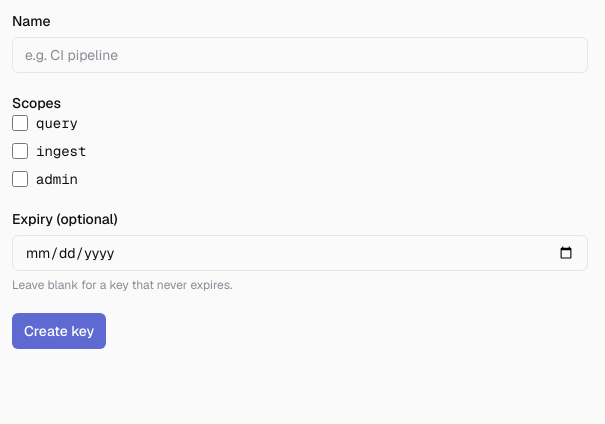
Scenario: CreateKeyDialog › blocks submit when no scope is selected
In the field labelled "Name": (300, 55) top-left (12, 37), bottom-right (588, 73), type "CI"
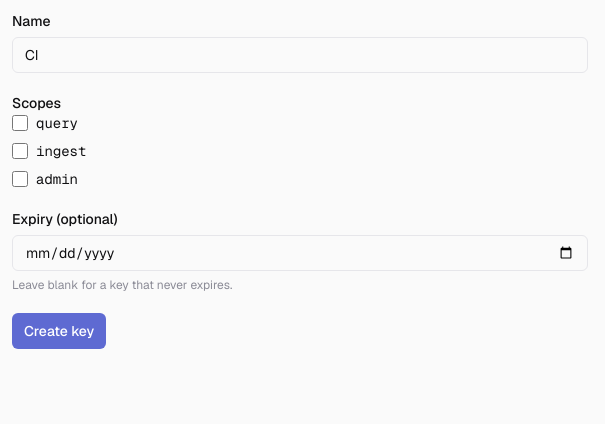
Click the button "Create key": (59, 331) top-left (12, 313), bottom-right (106, 349)
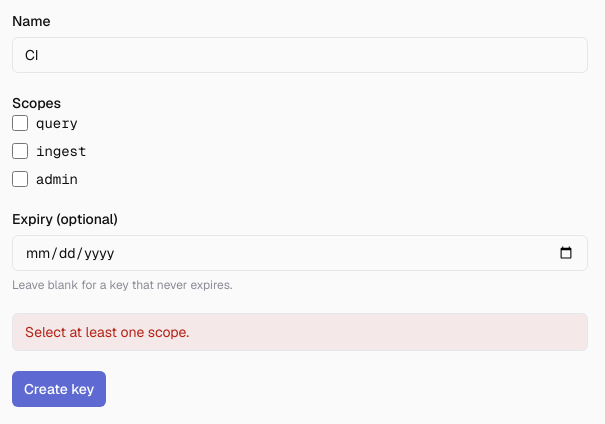
Expected: the text "Select at least one scope." is shown, top-left (12, 313), bottom-right (588, 351)
